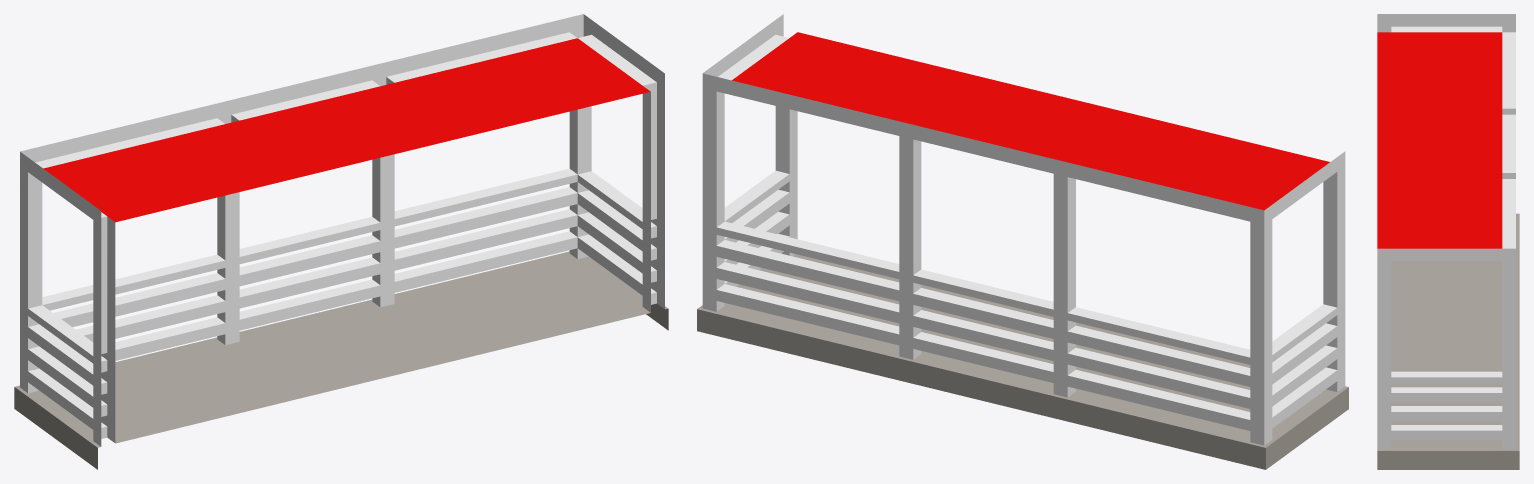
Rendered from TerraceWithNextLevelFloor.fbx.
3 renders of one model, left to right at view 1: azimuth 30°, elevation 25°; view 2: azimuth 150°, elevation 25°; view 3: azimuth 270°, elevation 25°, orthographic. The views are drawn at different scales.
Parts seen in each view (by area): view 1: TerraceWithNextLevelFloor_LOD0; view 2: TerraceWithNextLevelFloor_LOD0; view 3: TerraceWithNextLevelFloor_LOD0.
Part boxes in pixels (<box>): TerraceWithNextLevelFloor_LOD0: <box>14,14,668,469</box>; TerraceWithNextLevelFloor_LOD0: <box>697,14,1348,469</box>; TerraceWithNextLevelFloor_LOD0: <box>1377,14,1519,469</box>.
Size of what is drawn, in the model's own units: 1620 by 700 by 410.
